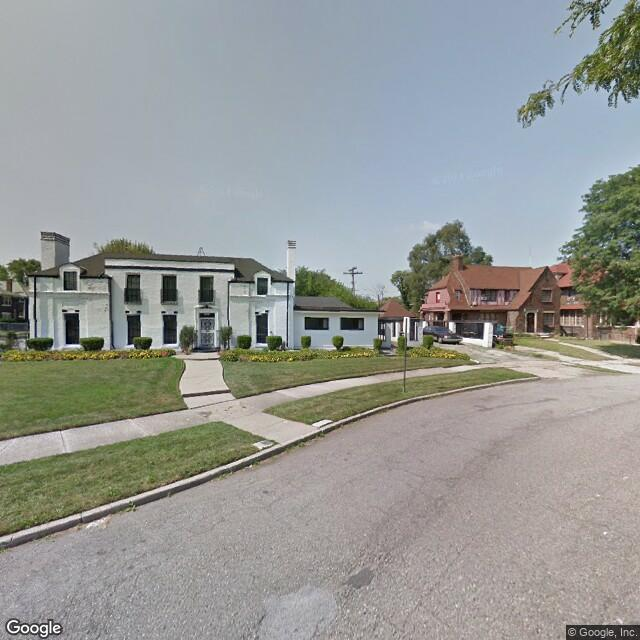litter: (83, 518, 113, 527), (245, 463, 254, 467)
